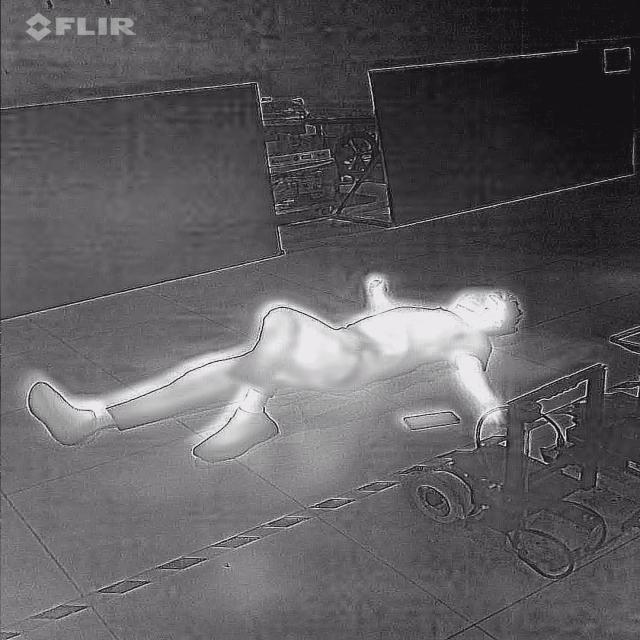Victim: (21, 266, 534, 470)
